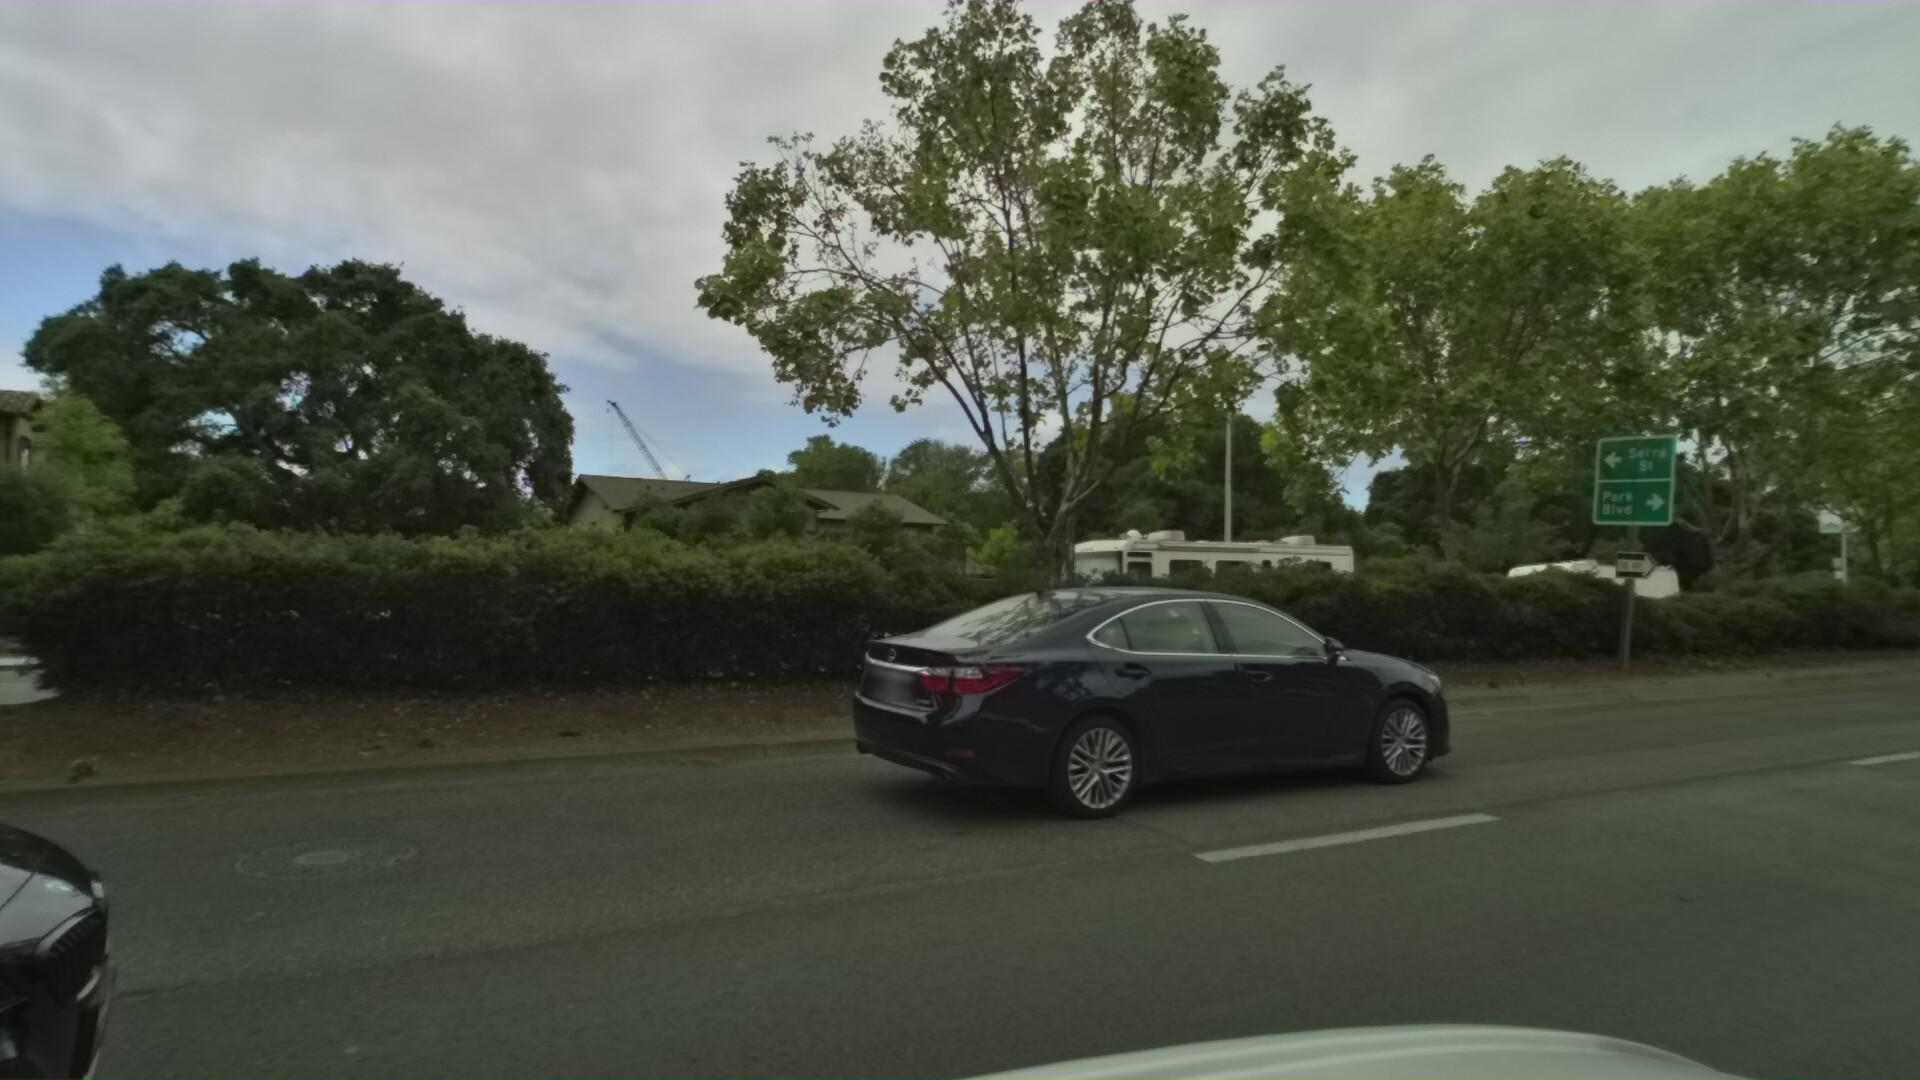car: (831, 512, 1497, 853)
other_vehicle: (1017, 498, 1360, 653), (1469, 542, 1679, 633)
